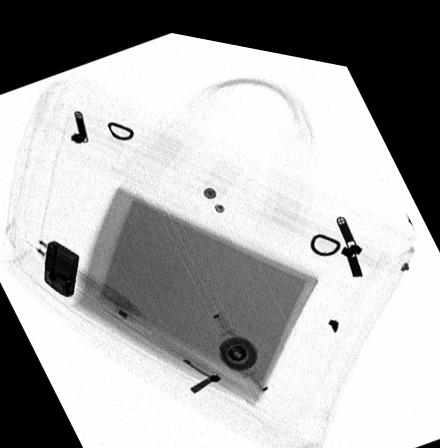Lighter: (43, 238, 80, 296)
